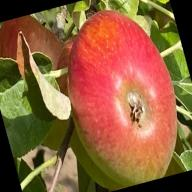Apples: (48, 0, 192, 192), (0, 7, 93, 161), (44, 32, 126, 192)
